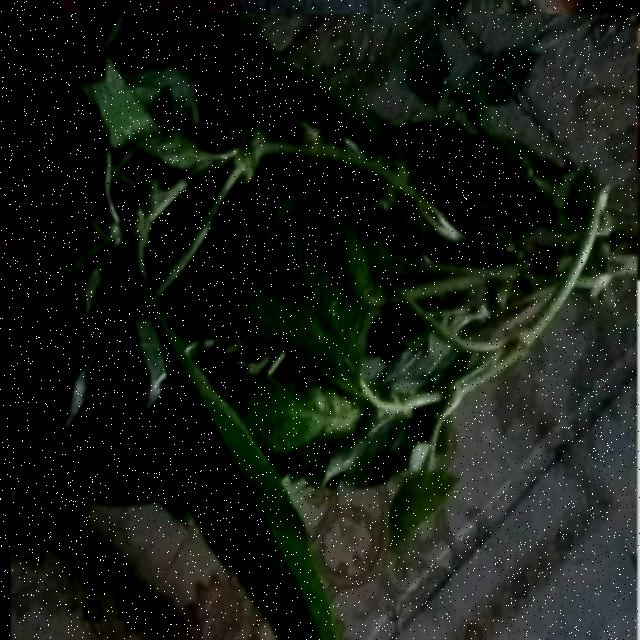Spinach: (49, 25, 616, 561)
